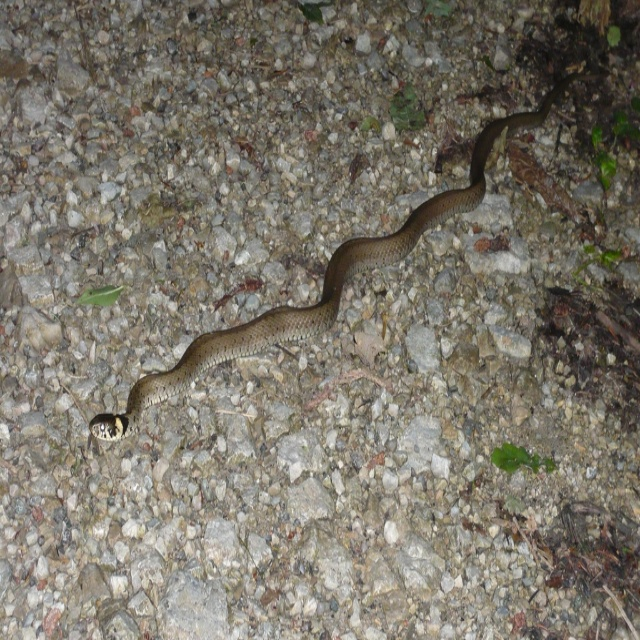Snake: (91, 78, 568, 438)
